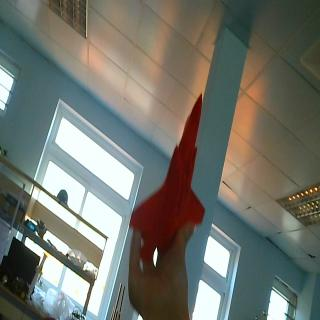Jet: (130, 91, 206, 238)
